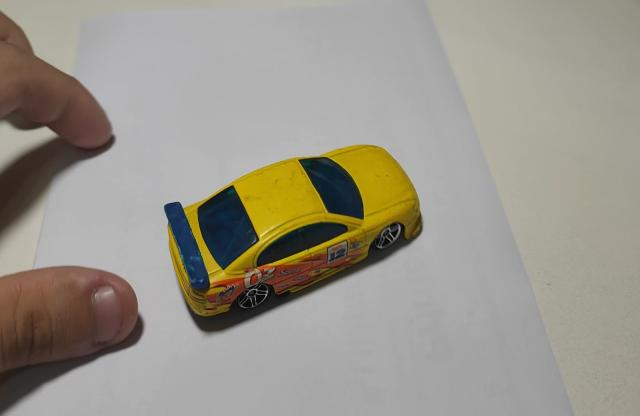02_OZSOME: (164, 144, 423, 316)
